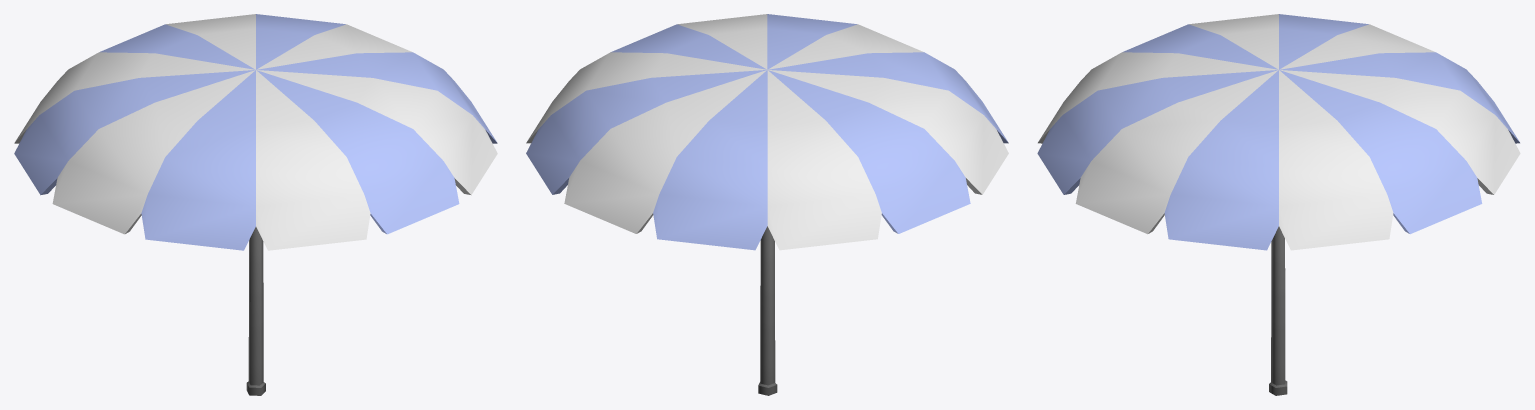
Rendered from Parasol_1_E.fbx.
3 renders of one model, left to right at view 1: azimuth 30°, elevation 25°; view 2: azimuth 150°, elevation 25°; view 3: azimuth 270°, elevation 25°, orthographic.
Parts seen in each view (by area): view 1: Parasol_1_E; view 2: Parasol_1_E; view 3: Parasol_1_E.
Boxes of the visible parts, left/top/right/bottom form: Parasol_1_E: left=14, top=14, right=497, bottom=395; Parasol_1_E: left=526, top=14, right=1008, bottom=395; Parasol_1_E: left=1037, top=14, right=1520, bottom=395.
Size of the model in its own units: 222 by 163 by 222.
